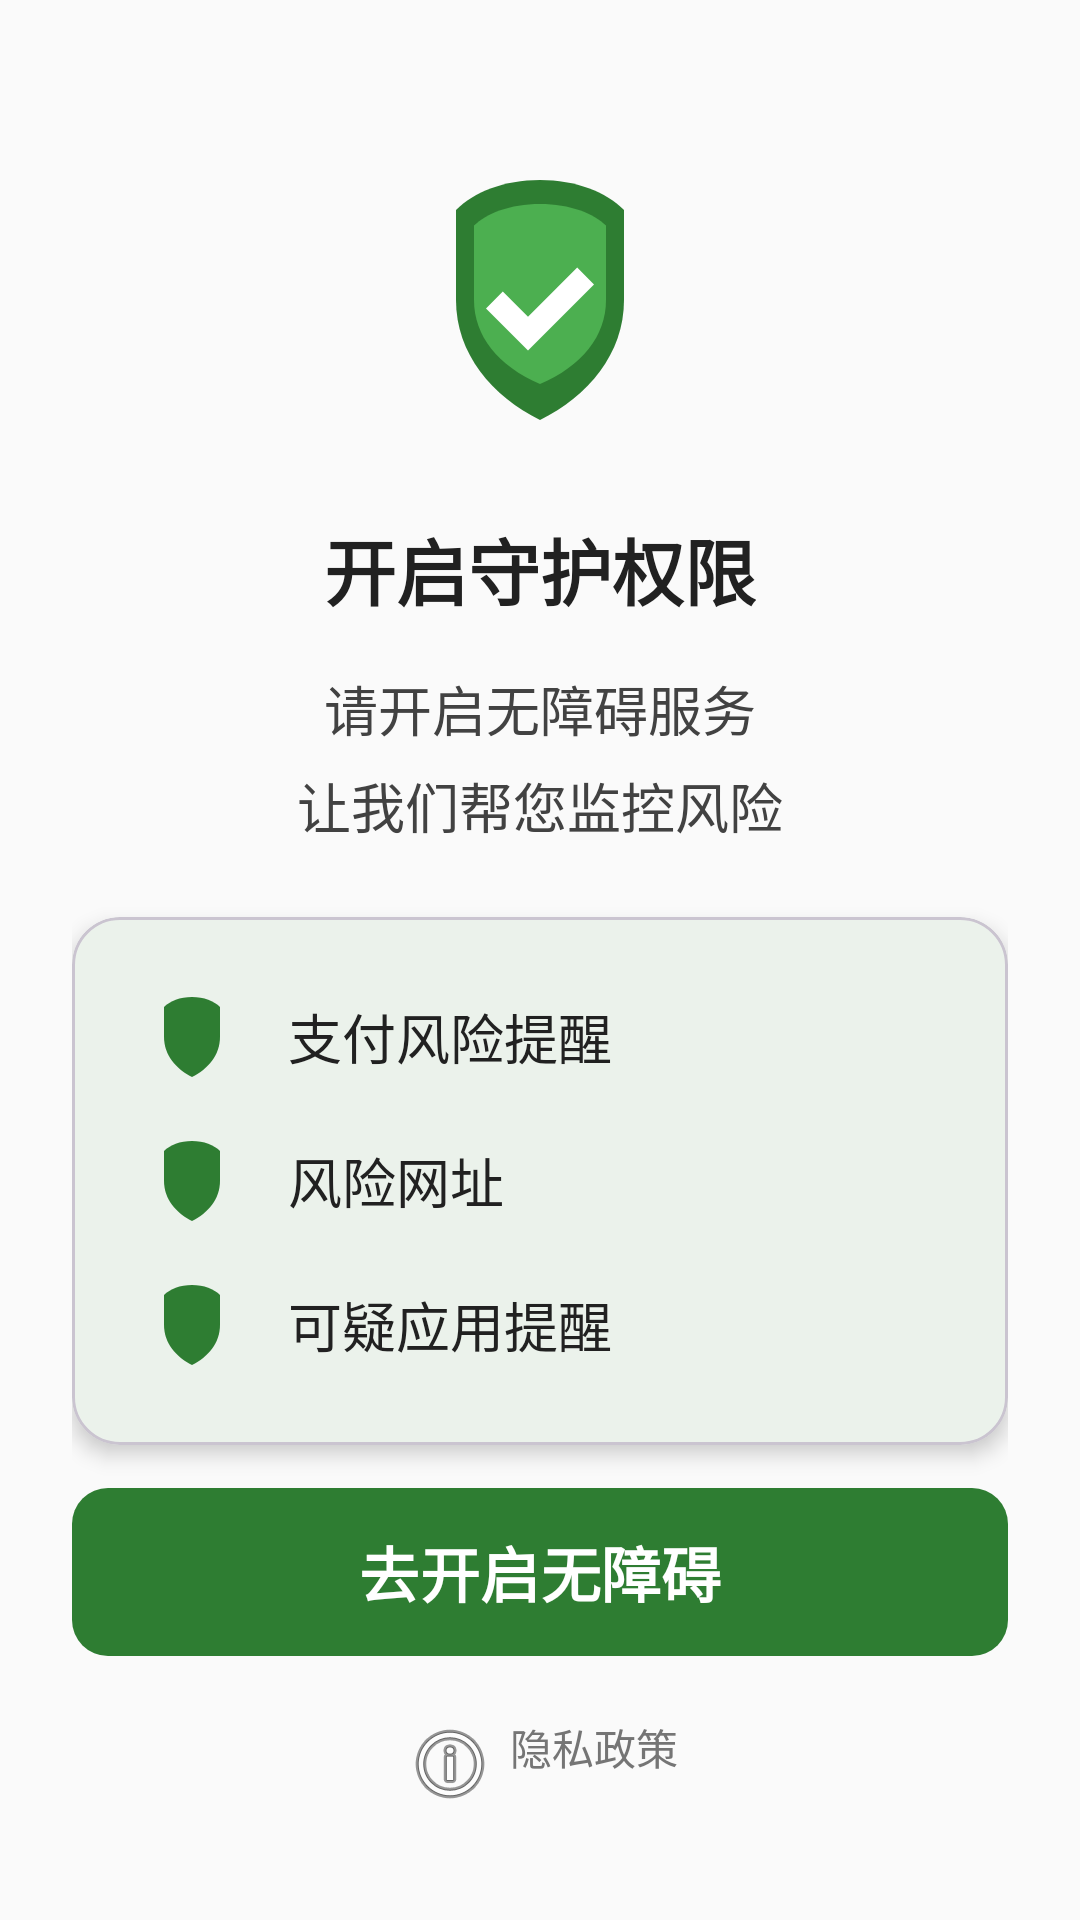

Icon click points for this 1080px×1920px phone screenshot, format (x,y):
shield: (540,300), (192,1037), (192,1181), (192,1325)
